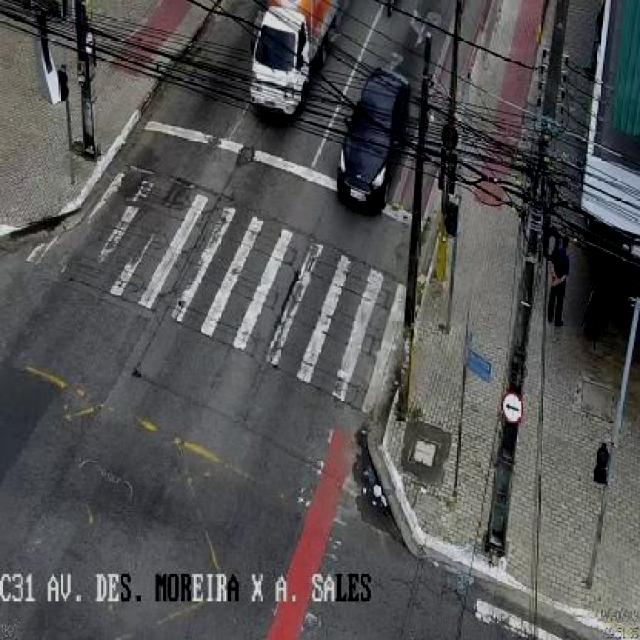Car: (336, 64, 410, 214)
Truck: (245, 0, 348, 118)
